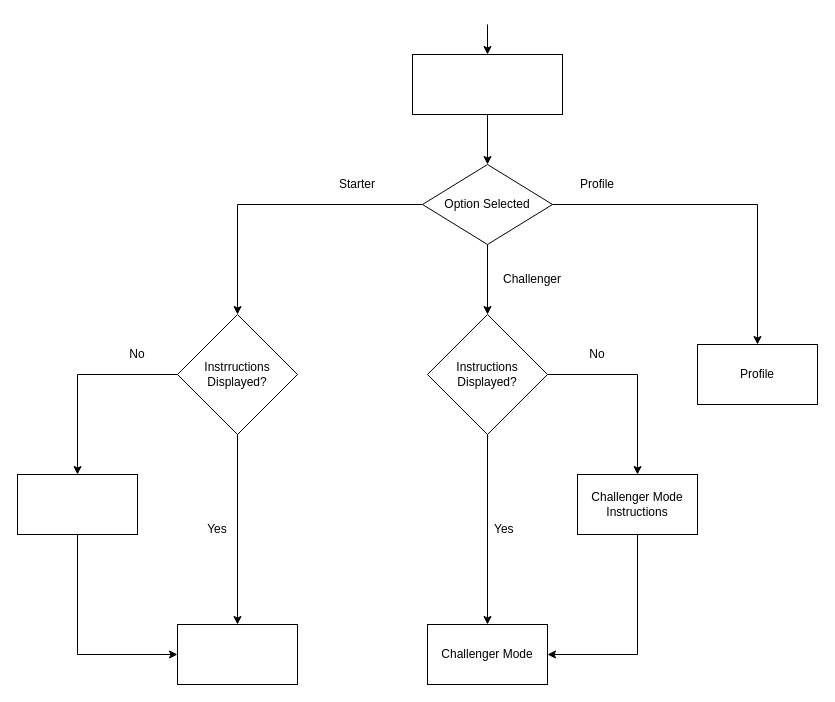
This 835x702 diagram has some shape labels left out. The centre of each missing label's shape, as x and y in pixels:
"Mode Selection Screen" belongs at point 487,84.
"Starter Mode" belongs at point 237,654.
"Starter Mode Instructions" belongs at point 77,504.
